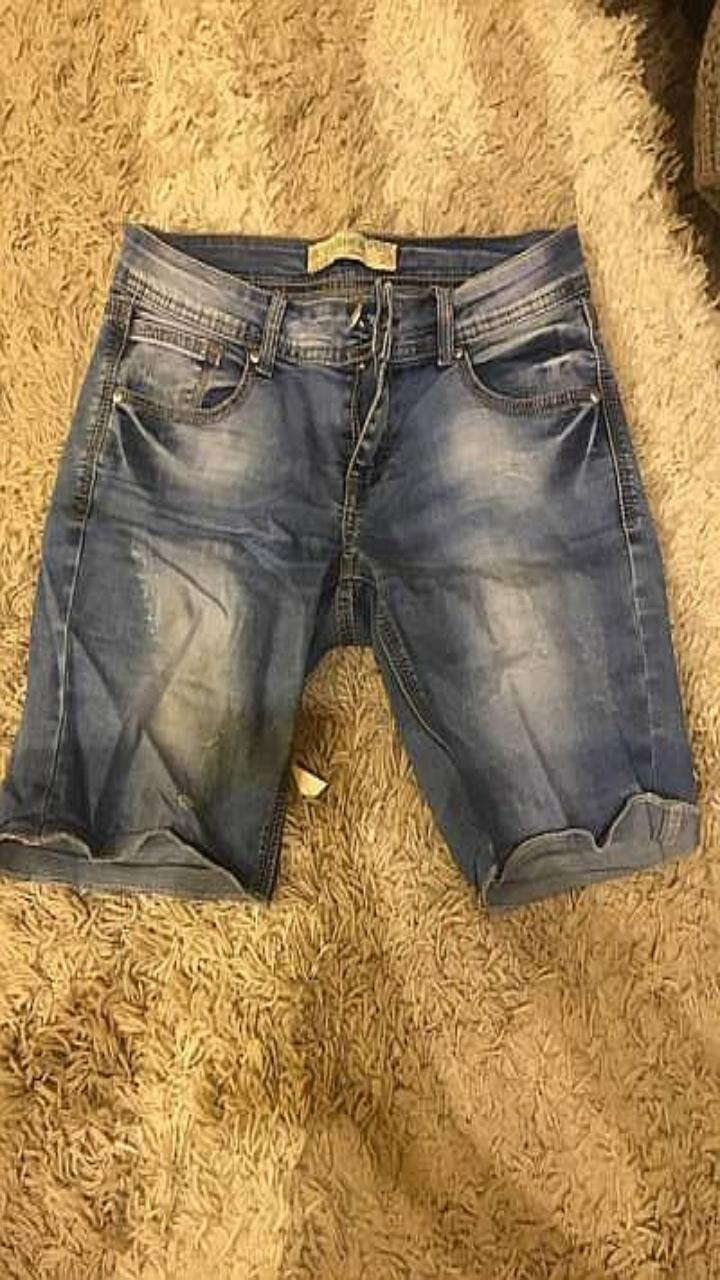Shorts: (0, 222, 698, 907)
